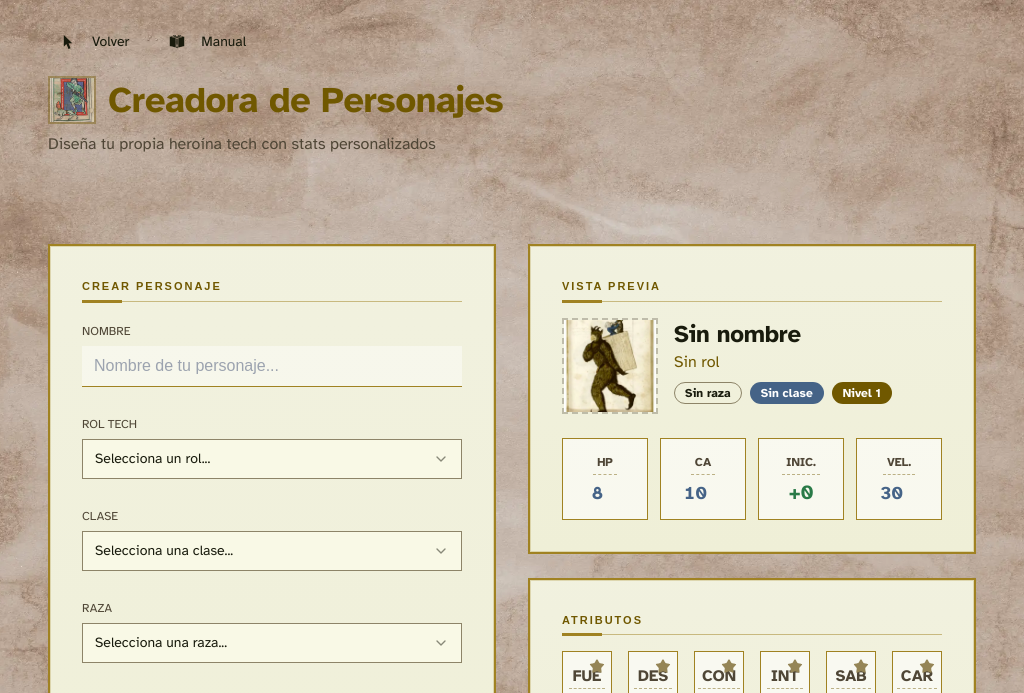
it: character creator guard › rejects a name that another character already uses
This screenshot has width=1024, height=693.
Type "Aria" into the field labelled "Nombre" at x=272, y=366, box [82, 346, 462, 386]
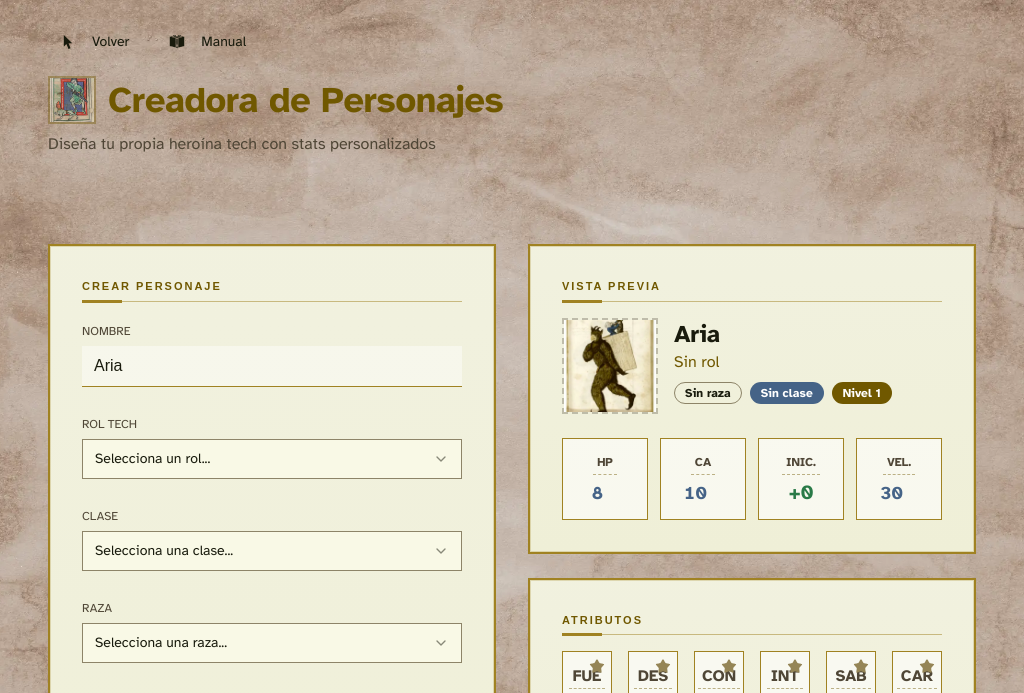
Leave the field labelled "Nombre", box [82, 346, 462, 386]
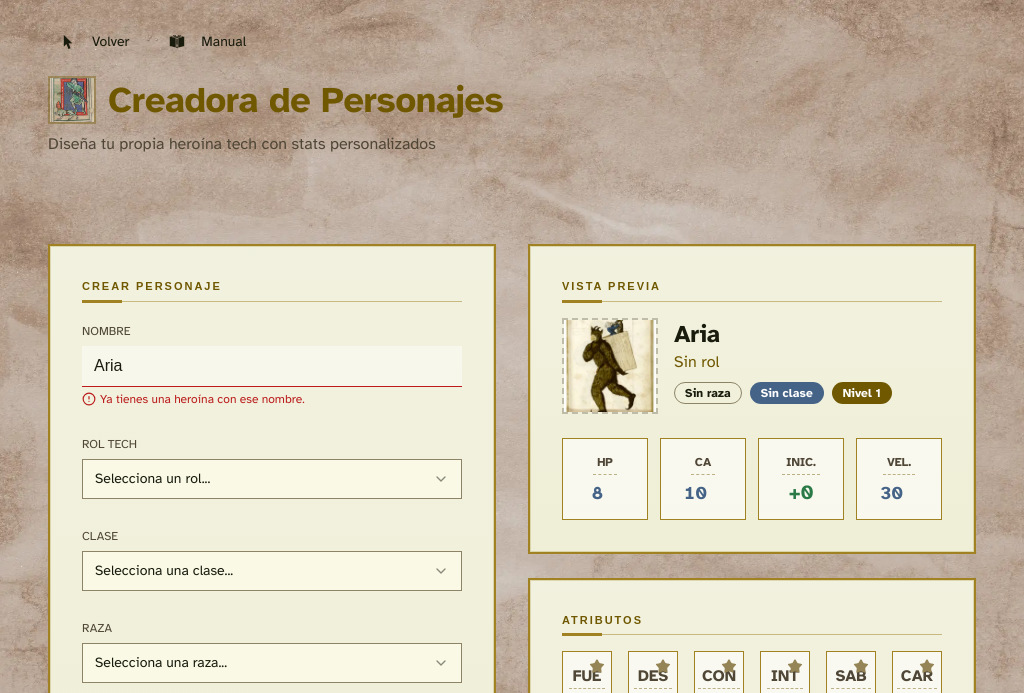
Expected: the text "Ya tienes una heroína con ese nombre." is shown, [100, 390, 305, 407]
